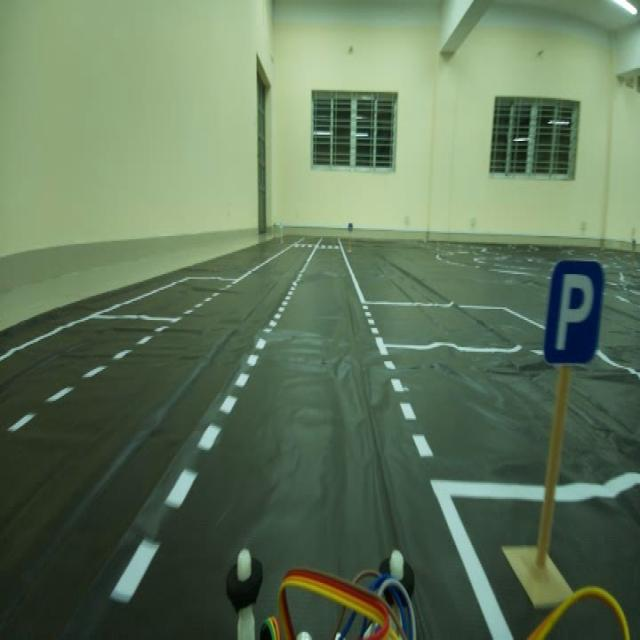parking: (539, 250, 607, 374)
